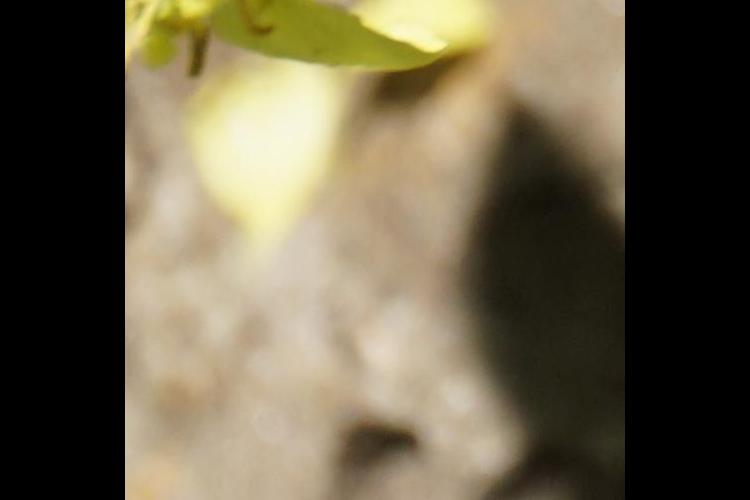yellow: (137, 1, 420, 136)
